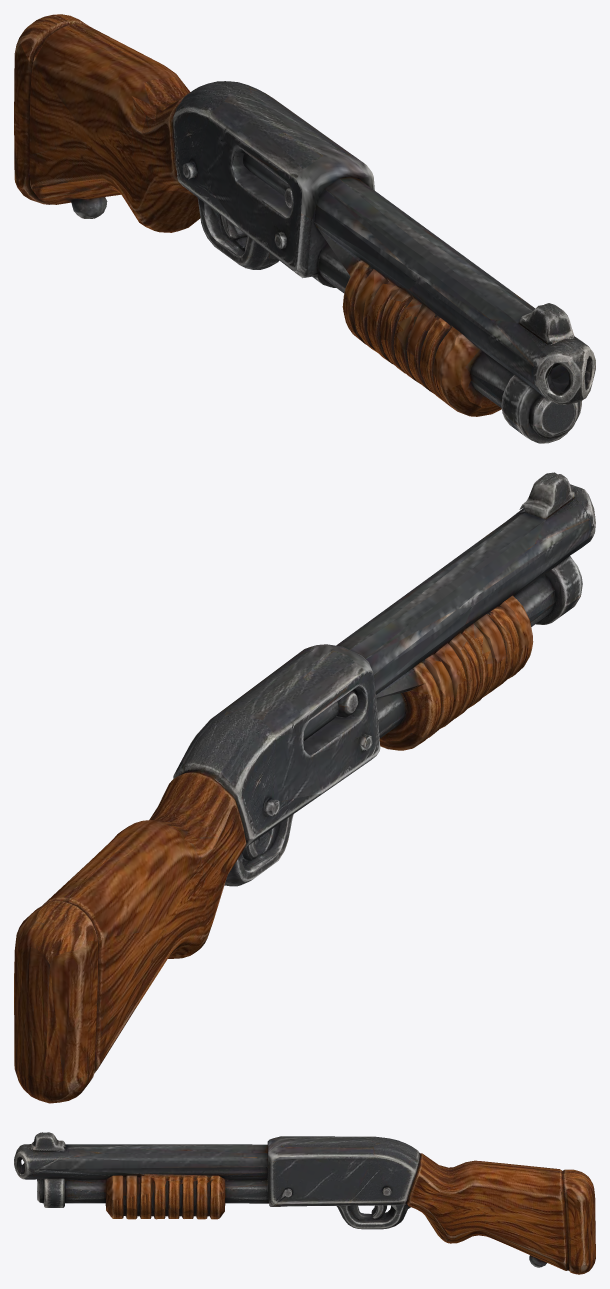
The model's file is gun_gauge.glb.
The picture shows the model from 3 angles, top to bottom: view 1: azimuth 30°, elevation 25°; view 2: azimuth 150°, elevation 25°; view 3: azimuth 270°, elevation 25°; orthographic projection. The views are drawn at different scales.
Size of the model in its own units: 0.1611 by 0.4345 by 1.65.
1 material, 1 textured.
